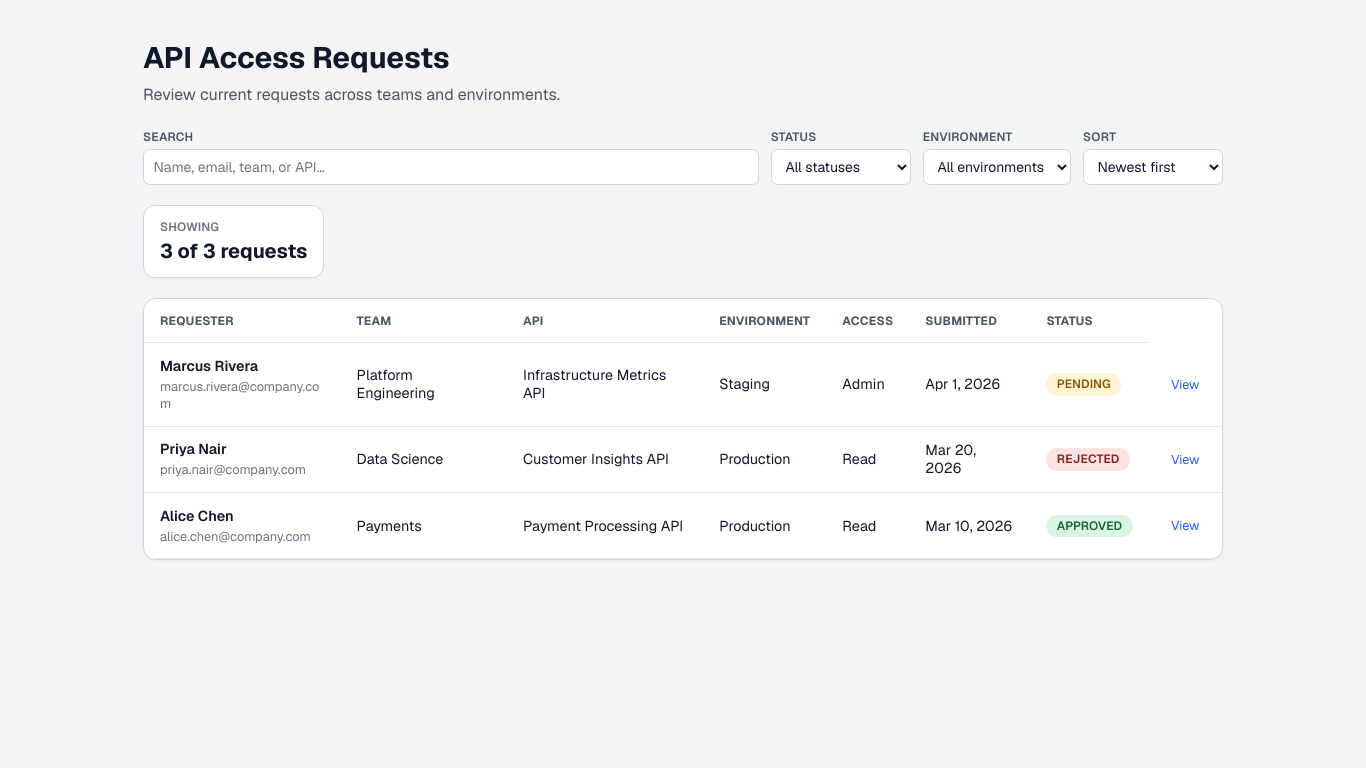
Scenario: RequestsDashboard decision workflow › rejects a pending request and shows updated status/feedback
Click the button with aria-label "view details for marcus rivera" at {"x": 1185, "y": 384}, box top-left (1165, 373), bottom-right (1206, 396)
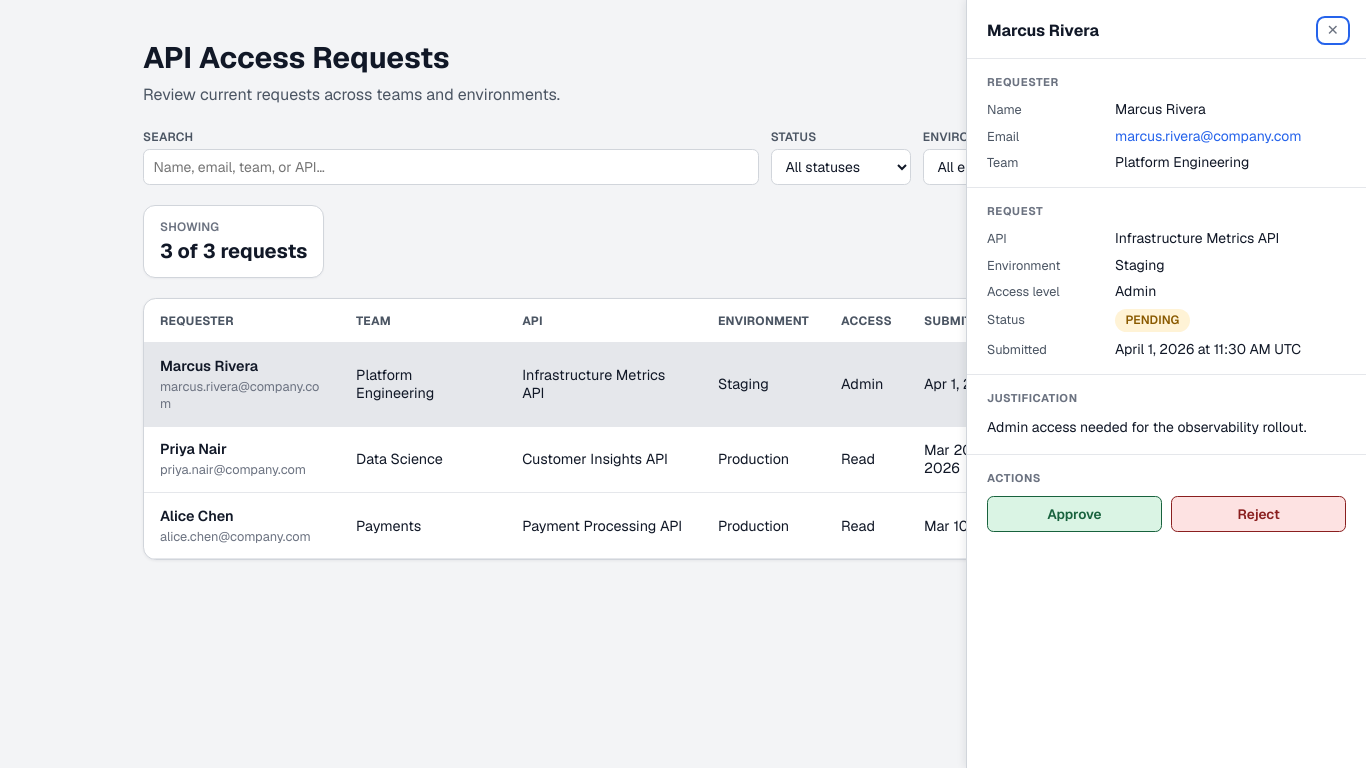
Click the button "Reject" at {"x": 1259, "y": 514}, box top-left (1171, 496), bottom-right (1346, 532)
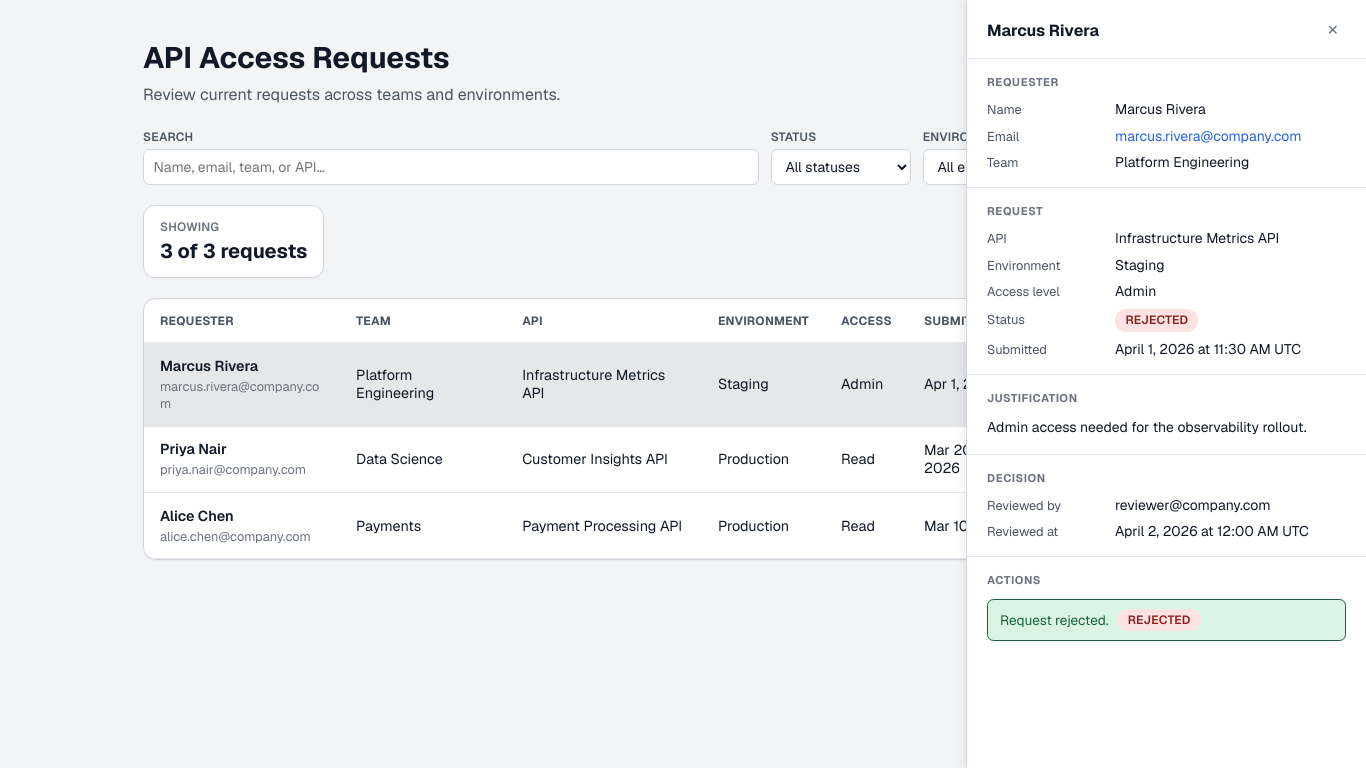
expect the text "Rejected" next to "Apr 1, 2026" is shown: met, box top-left (1055, 376), bottom-right (1118, 392)
expect the text "Request rejected." is shown: met, box top-left (1000, 611), bottom-right (1108, 629)
